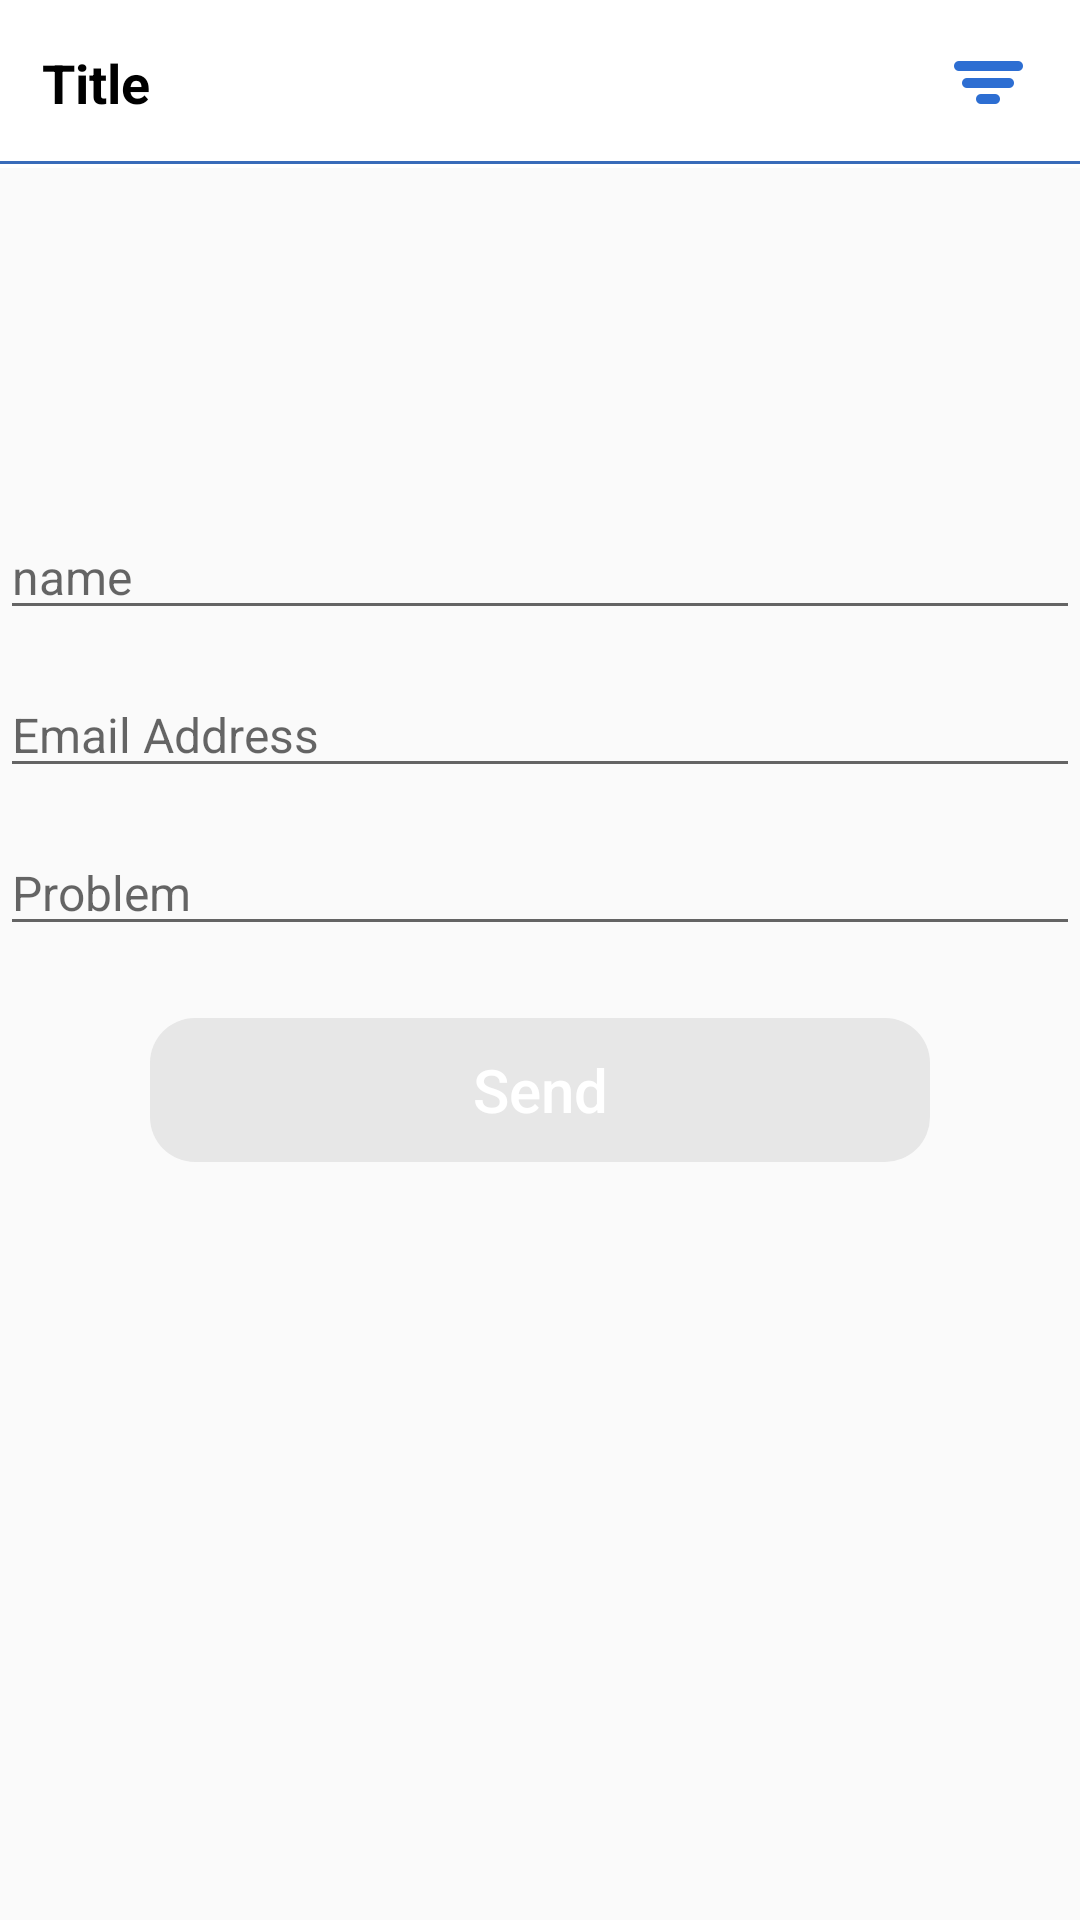

Icons on this 1080w x 1920h Android screen, each with the point to tap as point (x, y):
filter: point (988, 82)
